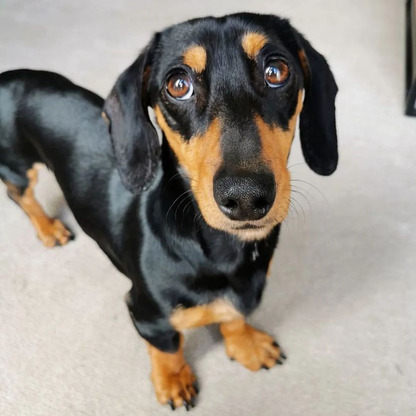dachshund: (17, 5, 355, 366)
